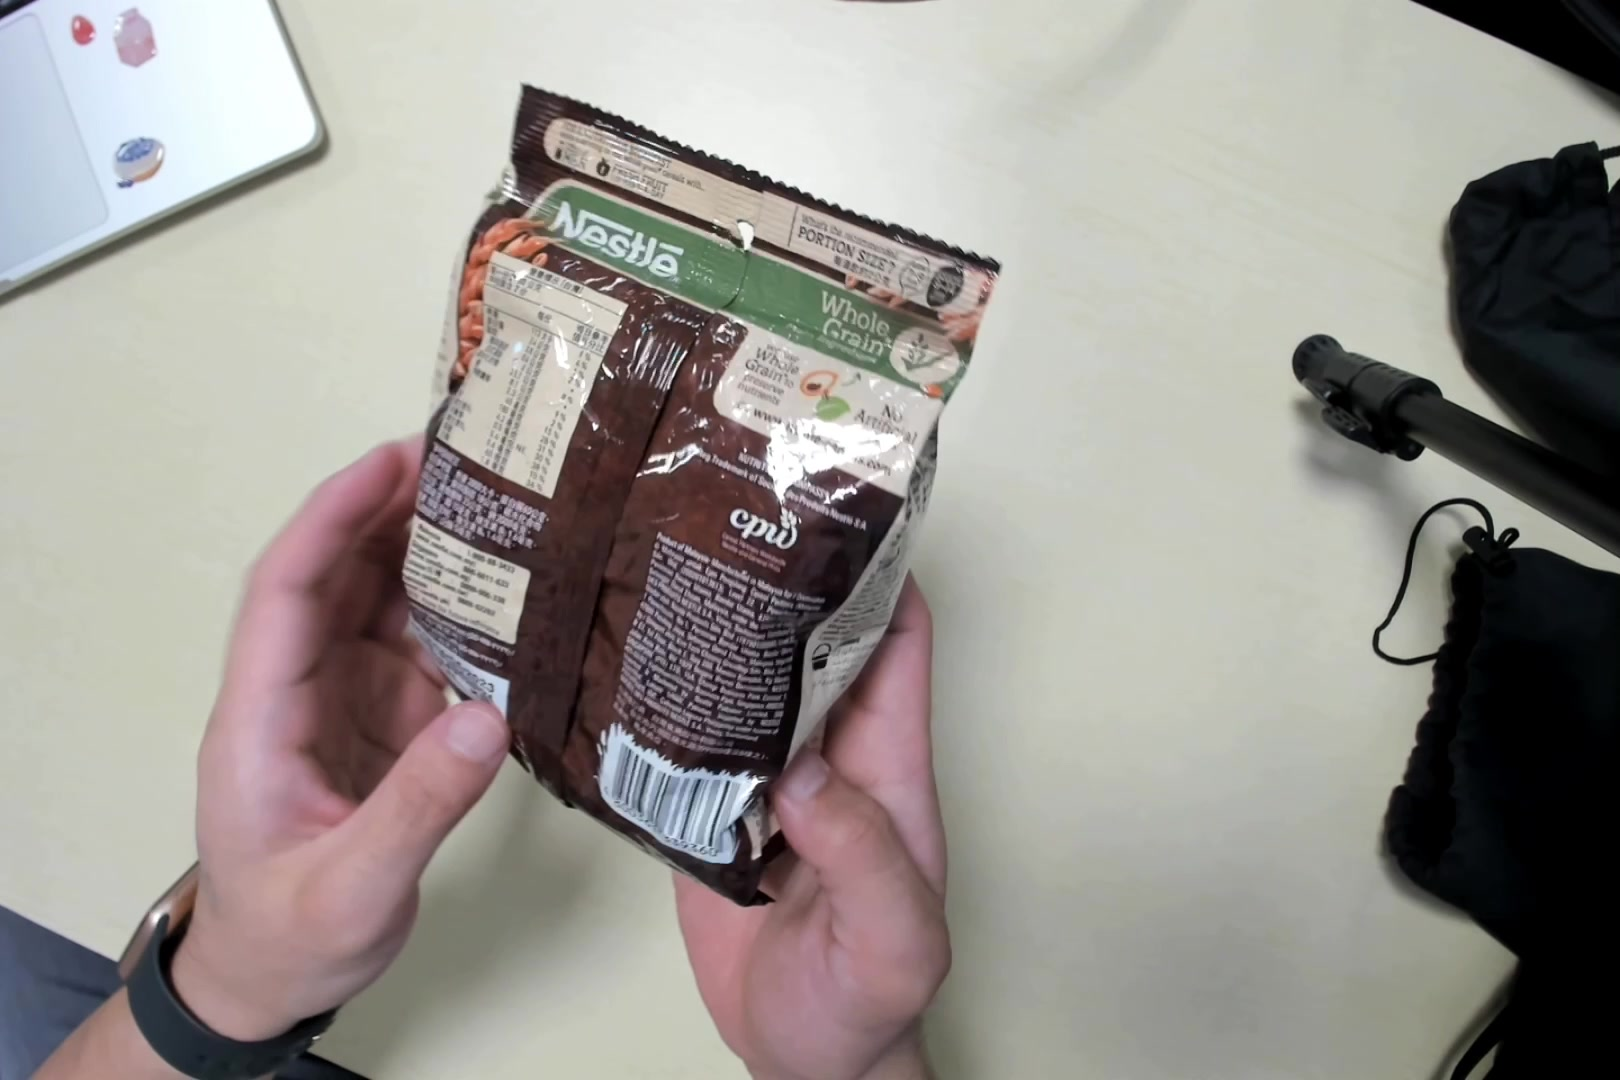BreakfastCereals_0-99g_Halal_NonHealthy: (424, 102, 956, 899)
